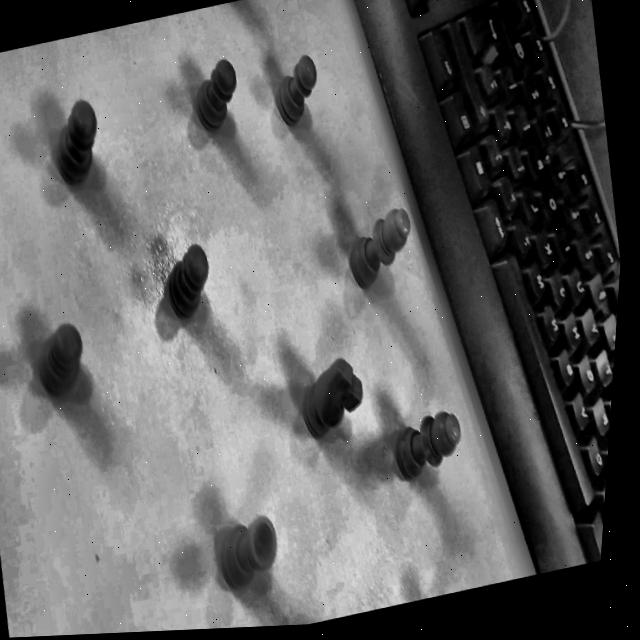white-bishop: (350, 207, 410, 288), (394, 411, 460, 479)
white-knight: (302, 358, 362, 436)
white-pawn: (156, 244, 208, 338), (54, 99, 96, 186), (37, 323, 82, 397), (195, 59, 236, 132), (276, 54, 316, 125)
white-rook: (220, 516, 276, 588)
